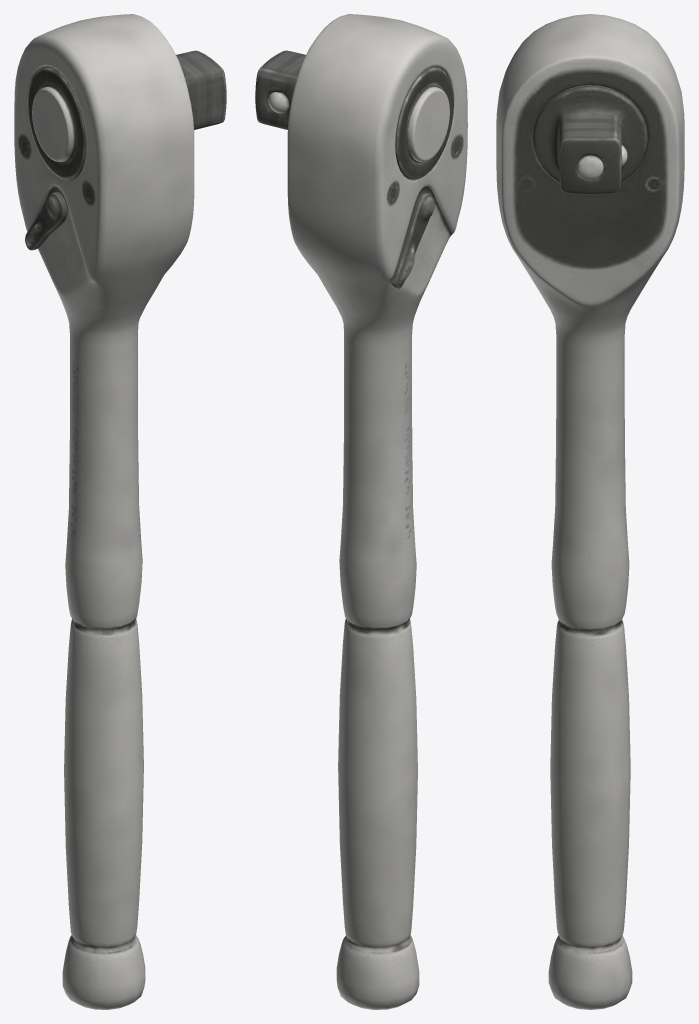
File: ratchet_wrench_1k.glb
The picture shows the model from 3 angles, left to right: view 1: azimuth 30°, elevation 25°; view 2: azimuth 150°, elevation 25°; view 3: azimuth 270°, elevation 25°; orthographic projection.
Visible parts, largest first — view 1: ratchet_wrench; view 2: ratchet_wrench; view 3: ratchet_wrench.
Boxes of the visible parts, x1=… form: ratchet_wrench: x1=14, y1=14, x2=226, y2=1009; ratchet_wrench: x1=255, y1=14, x2=467, y2=1009; ratchet_wrench: x1=496, y1=14, x2=684, y2=1009.
Size of the model in its own units: 0.0441 by 0.2462 by 0.0434.
1 material, 1 textured.
